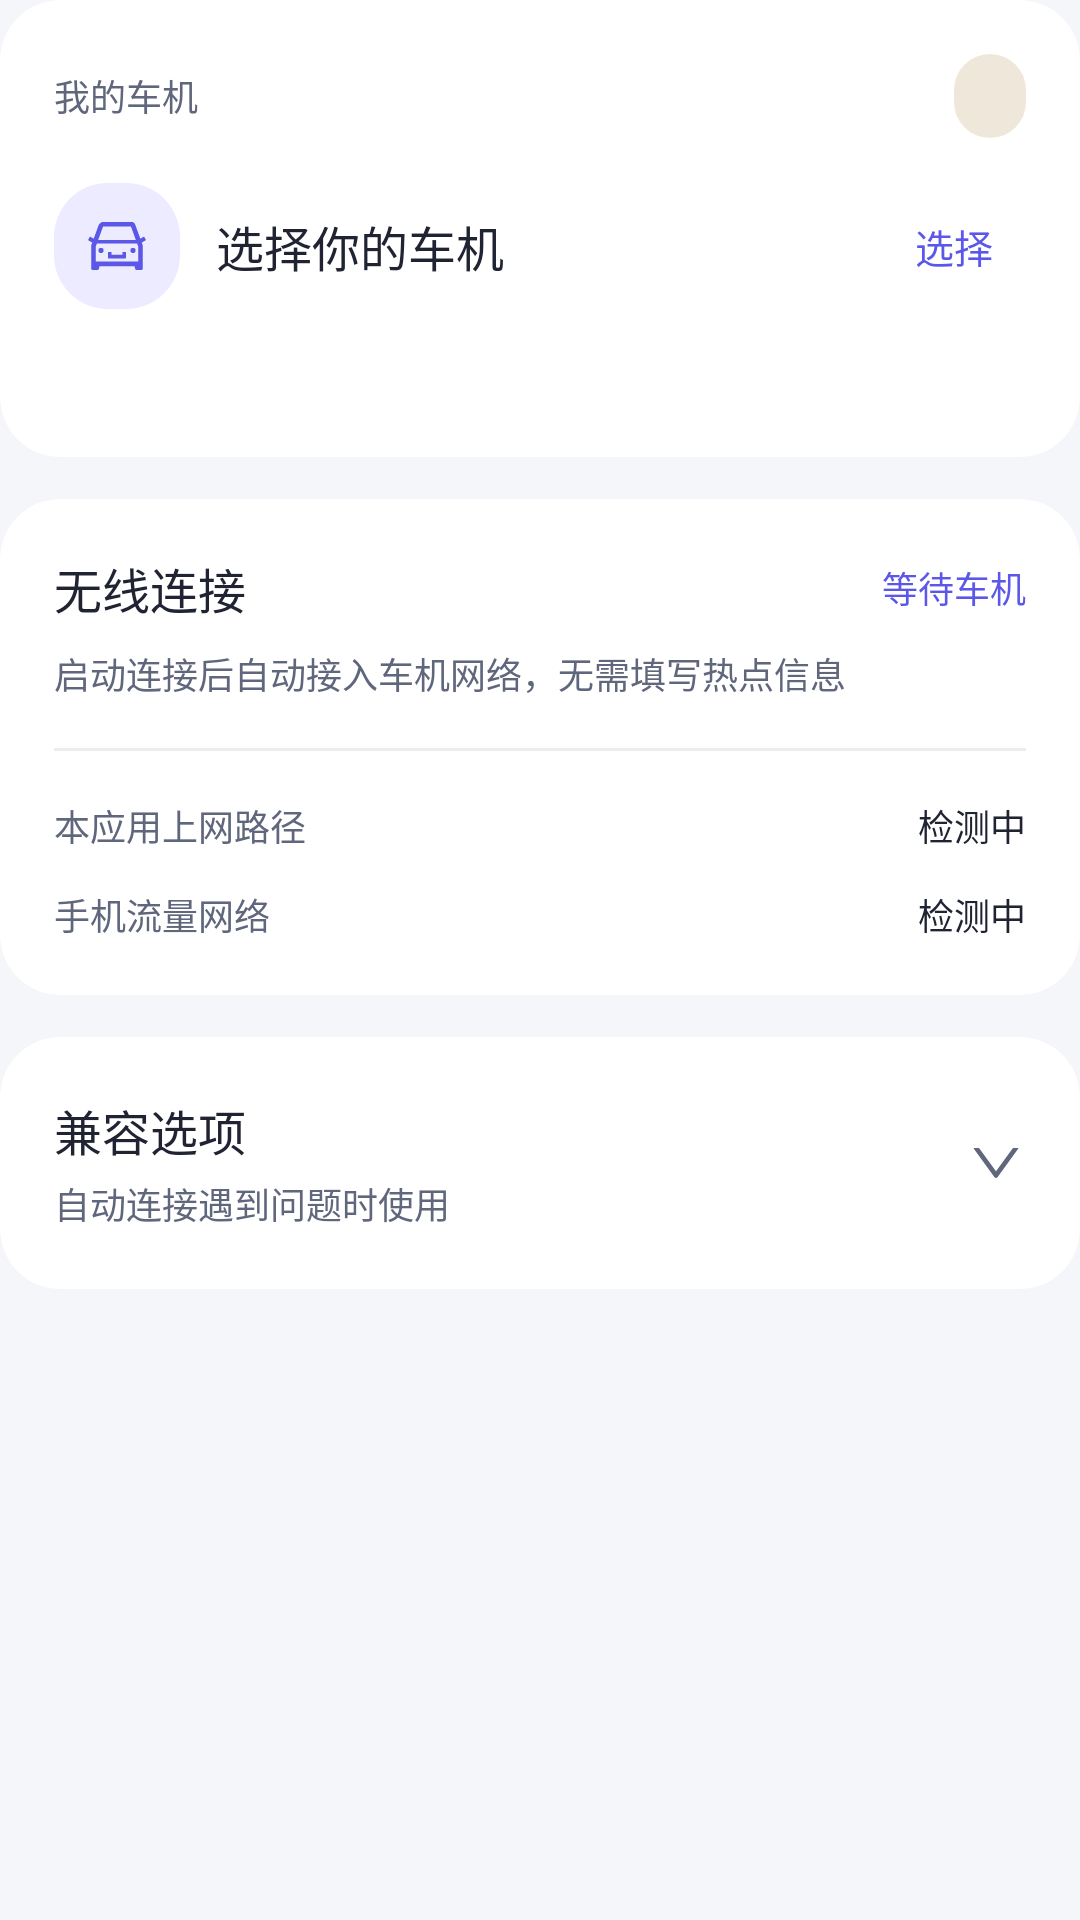

Named icons in this screenshot (1080×1920) and their bounding boxes, (x1, y1, x2, y2):
car: (54, 183, 180, 309)
